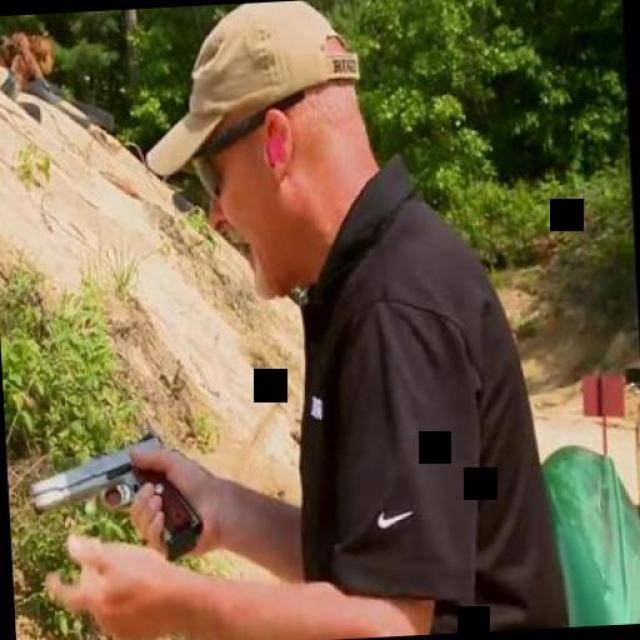gun: (23, 426, 208, 565)
